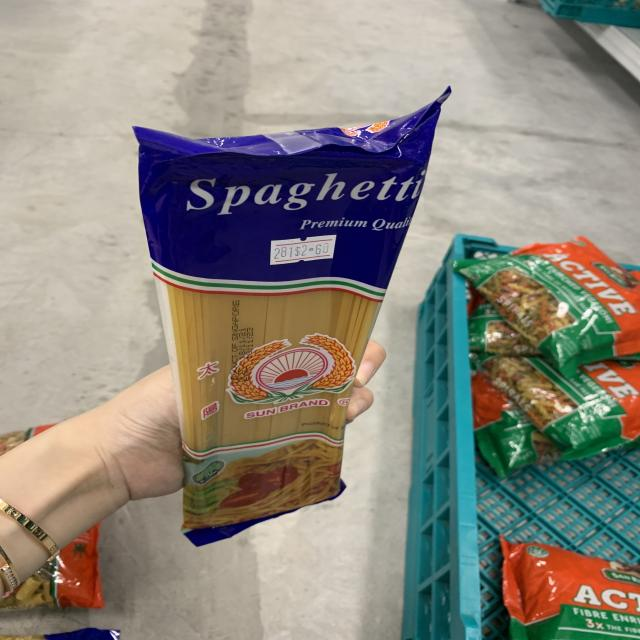object_name: (152, 132, 395, 529)
